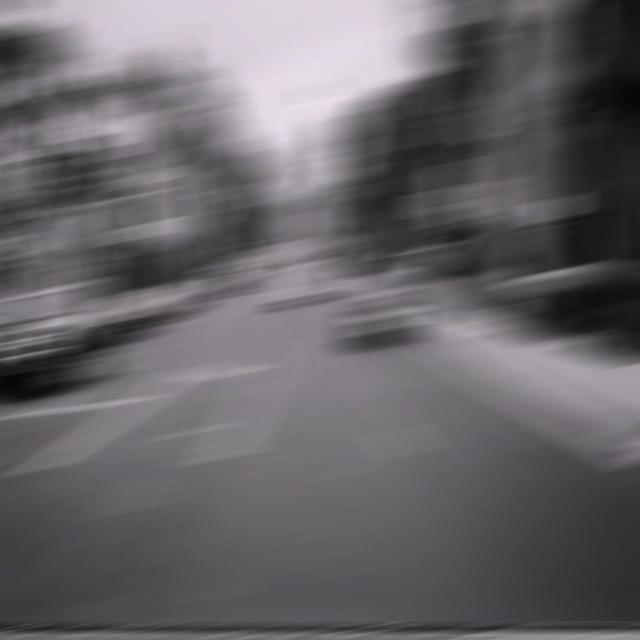speedLimit25: (434, 161, 472, 222)
